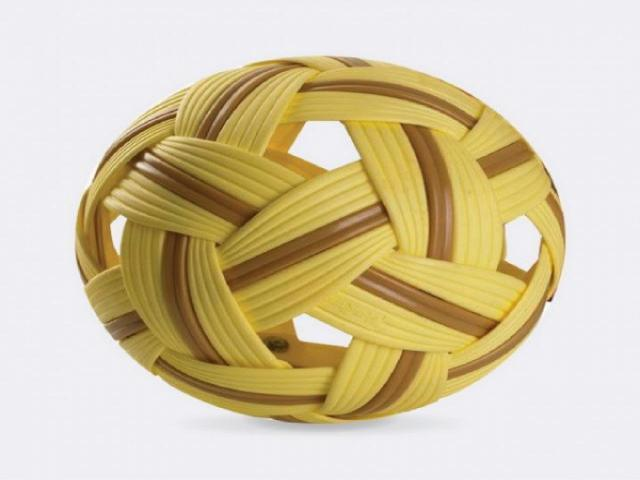round ball: (76, 56, 565, 422)
